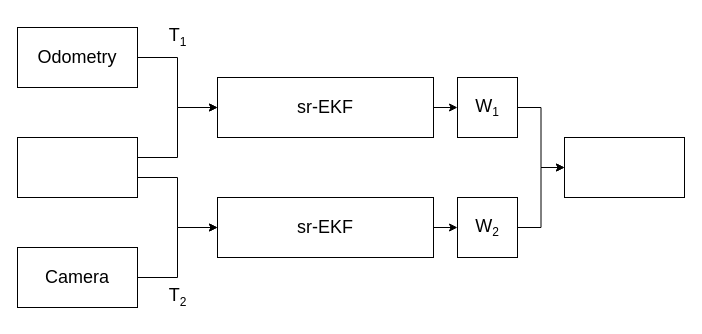
Image size: 702x334. Some labels were removed from this diagram. The shapes that lost their labels are listed below. From the top down, each one's centre as x and y in pixels, then its label:
(77,167): System Dynamic
(624,167): State Estimation
